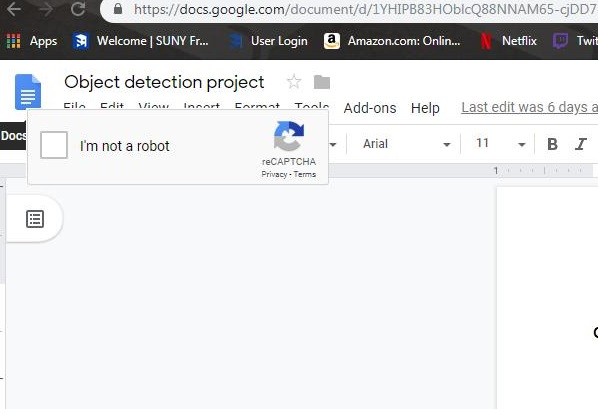captcha: (41, 131, 176, 159)
